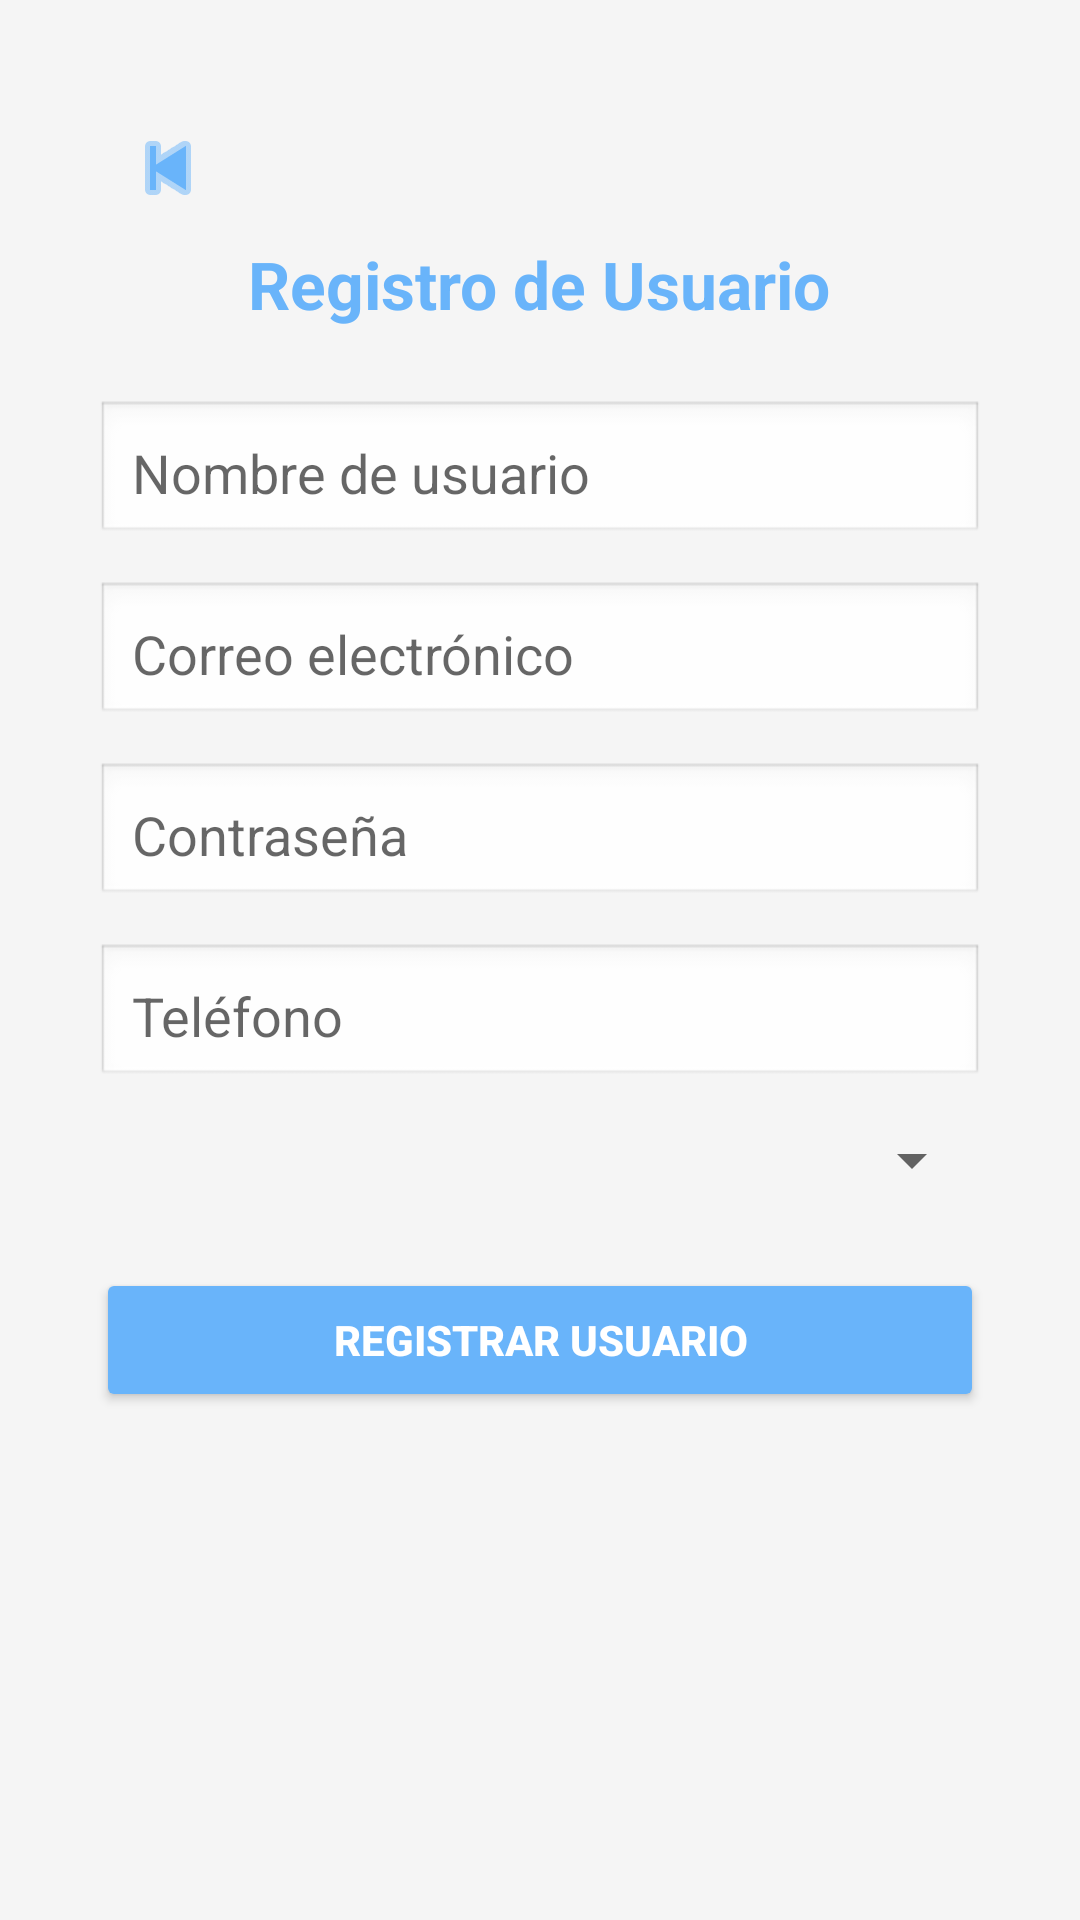

Where icons sit on this 1080 x 1920 app screen, as BBox(x1, y1, x2, y2):
Regresar: BBox(145, 141, 191, 195)
